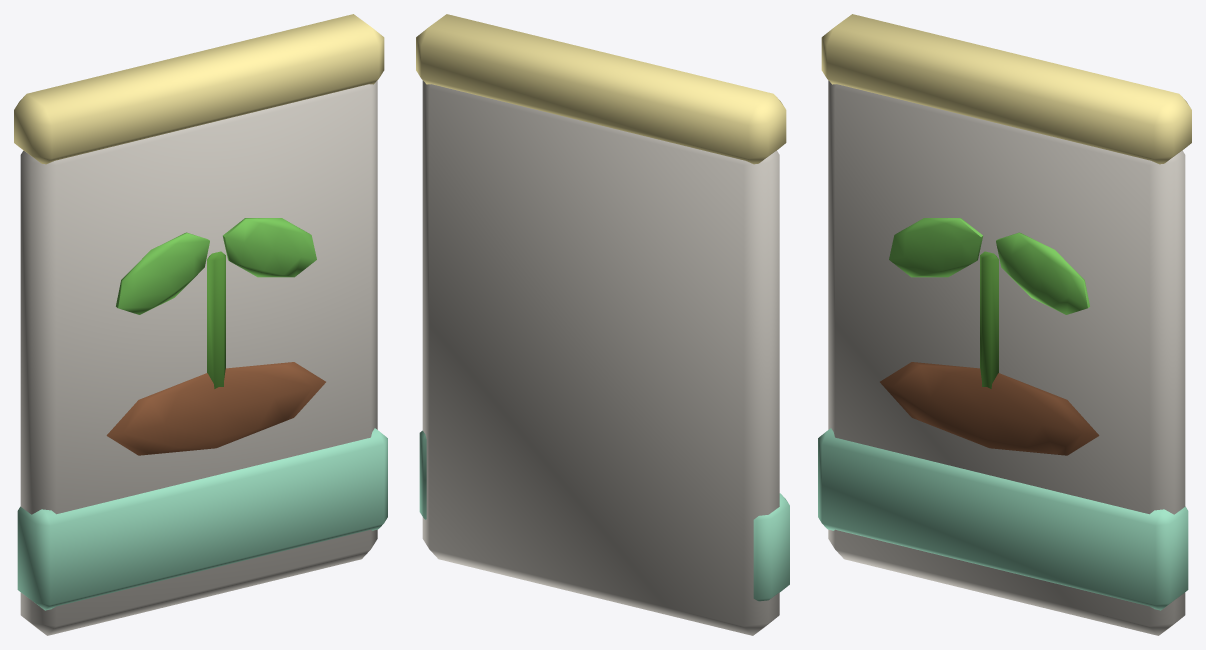
File: item_seed_packet.glb
3 views of the same model, side by side, from view 1: azimuth 30°, elevation 25°; view 2: azimuth 150°, elevation 25°; view 3: azimuth 330°, elevation 25° (orthographic).
Parts seen in each view (by area): view 1: item_seed_packet; view 2: item_seed_packet; view 3: item_seed_packet.
Boxes of the visible parts, <box> form: item_seed_packet: <box>14,14,387,635</box>; item_seed_packet: <box>416,14,789,635</box>; item_seed_packet: <box>818,14,1191,635</box>.
Bounding box in the file's own units: 0.112 × 0.162 × 0.0205.
